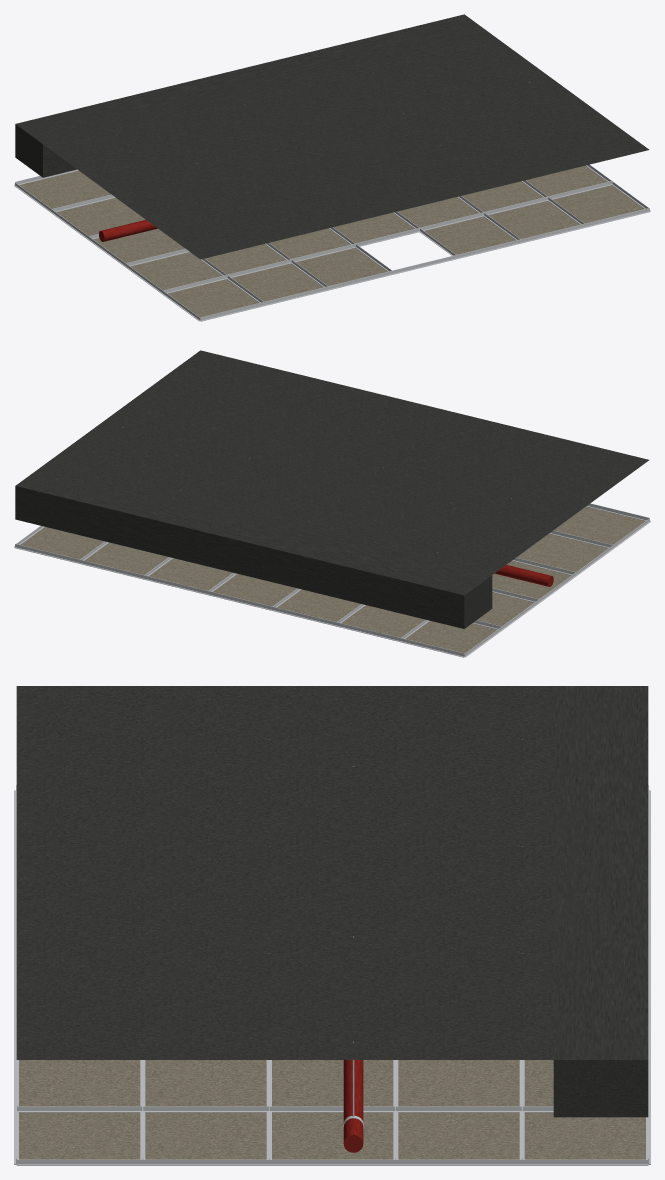
File: plenum.glb
3 renders of one model, top to bottom at view 1: azimuth 30°, elevation 25°; view 2: azimuth 150°, elevation 25°; view 3: azimuth 270°, elevation 25°, orthographic. The views are drawn at different scales.
Visible parts, largest first — view 1: plenum; view 2: plenum; view 3: plenum.
Boxes of the visible parts, left/top/right/bottom form: plenum: left=14, top=14, right=650, bottom=321; plenum: left=14, top=350, right=650, bottom=657; plenum: left=14, top=686, right=650, bottom=1165.
Bounding box in the file's own units: 4.22 × 0.5499 × 3.02.
14 materials, 6 textured.
